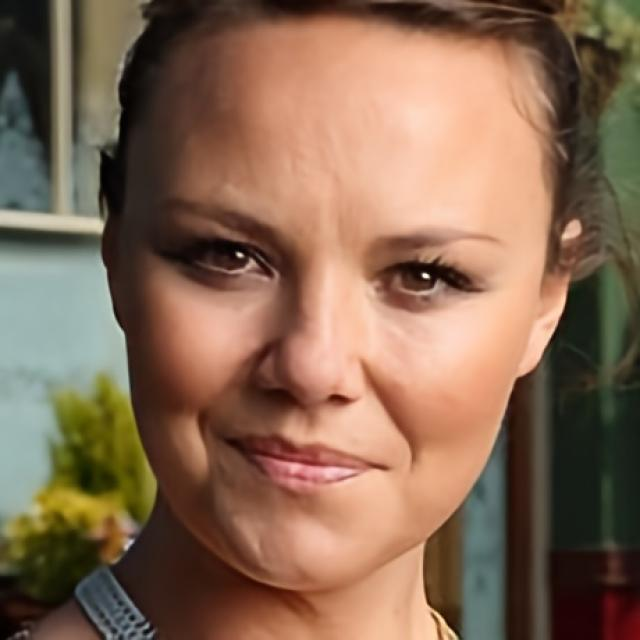content: (118, 0, 552, 589)
